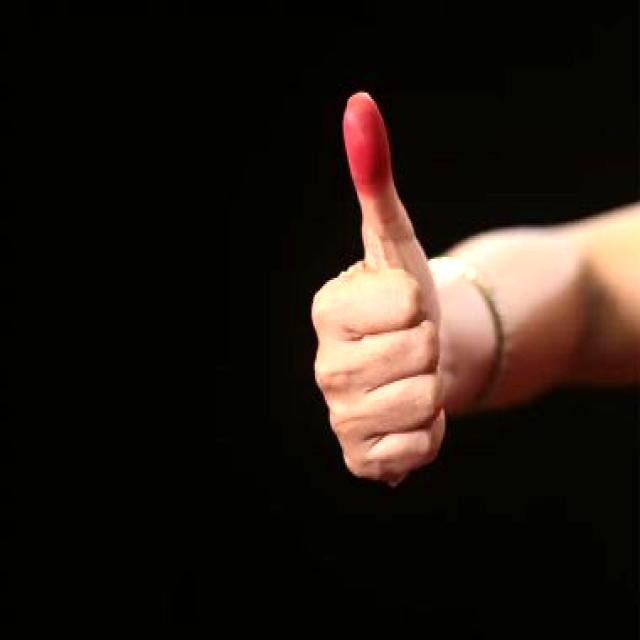Shikhara: (287, 70, 481, 519)
